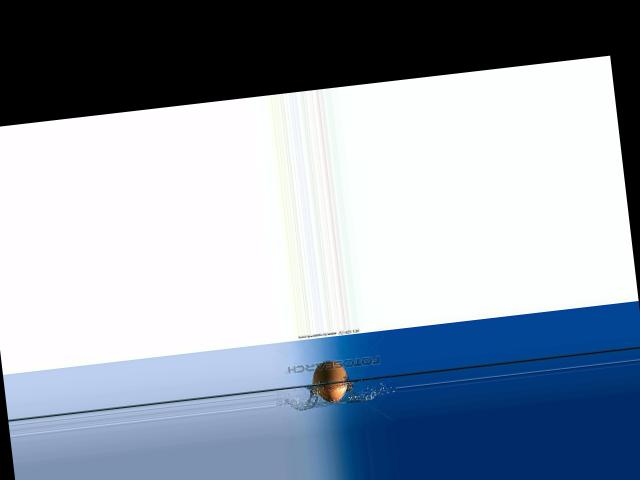egg: (310, 359, 349, 404)
